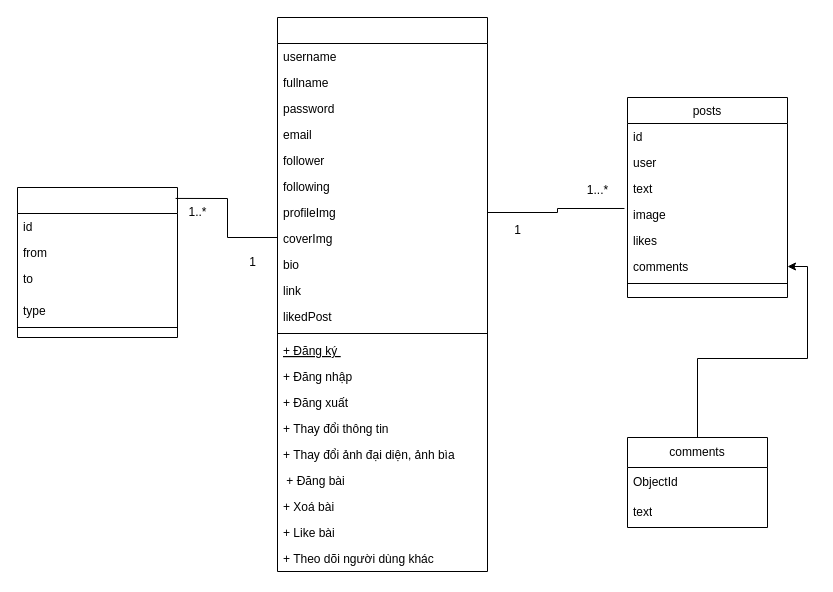
Image size: 833x592. Some labels were removed from this diagram. Here are the shapes that lost their labels. From the top down, the box of each, then its label:
(16, 186, 178, 338): nofitications
(276, 16, 488, 572): users
